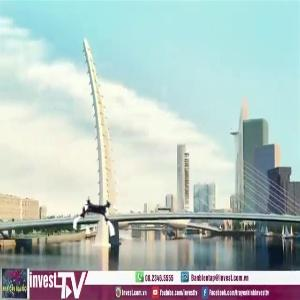drone: (71, 194, 121, 244)
